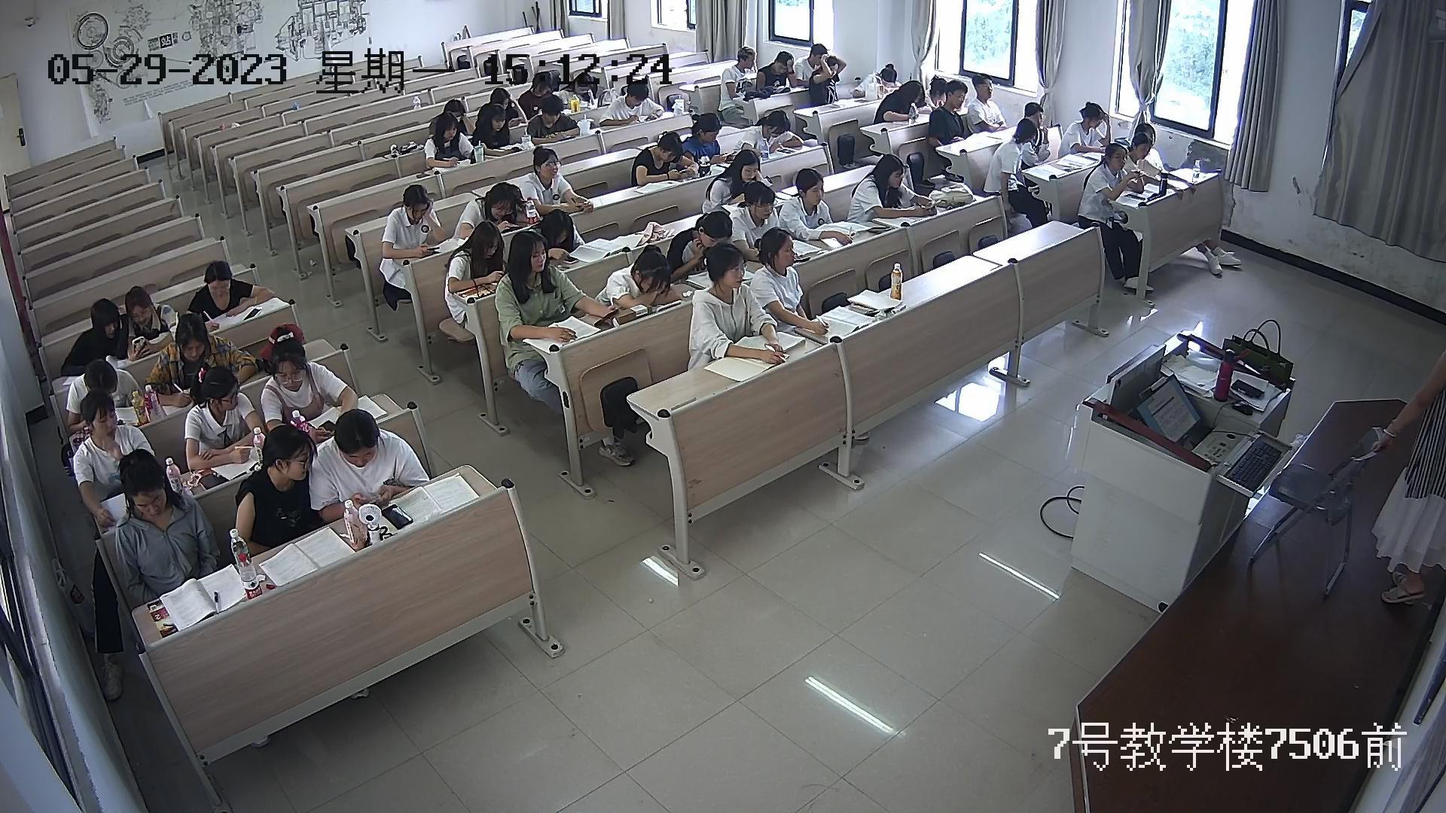Look Around: (78, 398, 124, 442)
phone: (358, 489, 386, 509), (593, 305, 618, 324), (128, 336, 153, 355), (317, 419, 334, 440)
